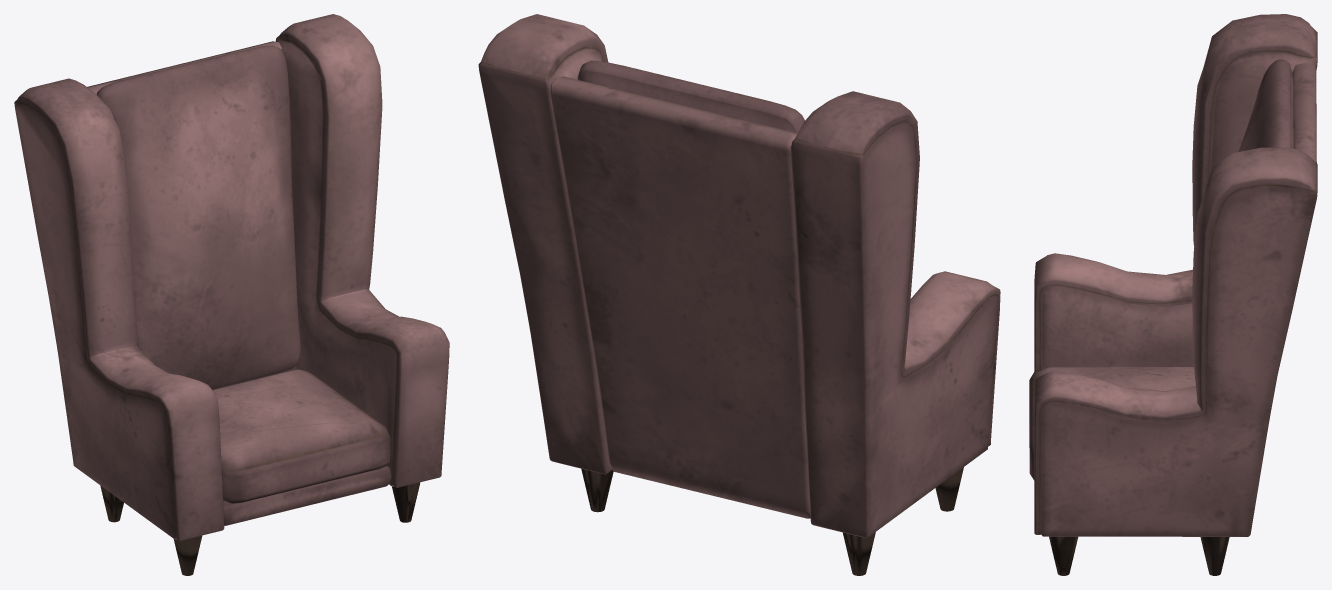
File: furniture.glb
3 renders of one model, left to right at view 1: azimuth 30°, elevation 25°; view 2: azimuth 150°, elevation 25°; view 3: azimuth 270°, elevation 25°, orthographic. The views are drawn at different scales.
Parts seen in each view (by area): view 1: Object_2; view 2: Object_2; view 3: Object_2.
Boxes of the visible parts, left/top/right/bottom form: Object_2: left=14, top=14, right=449, bottom=575; Object_2: left=478, top=14, right=1000, bottom=575; Object_2: left=1029, top=14, right=1317, bottom=575.
Size of the model in its own units: 16.27 by 20.12 by 12.29.
1 material, 1 textured.
